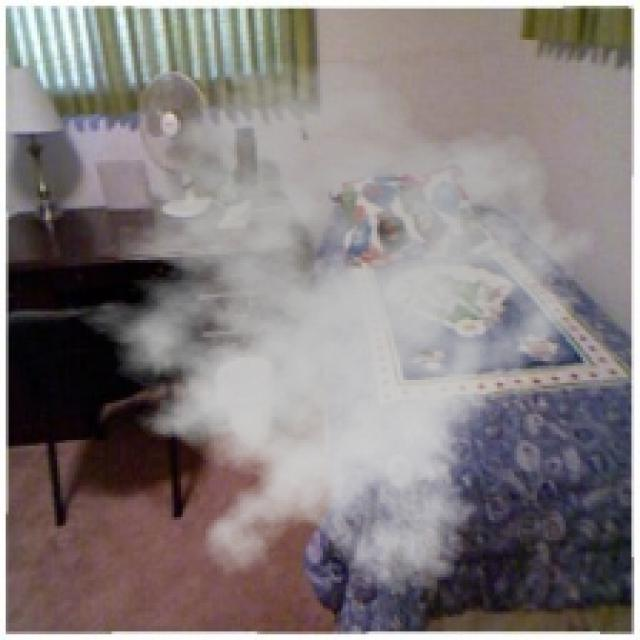smoke: (54, 57, 609, 597)
